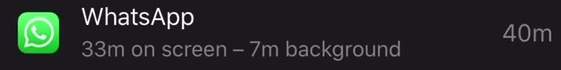name: (77, 3, 200, 35)
time: (79, 38, 130, 69), (244, 32, 283, 69)
